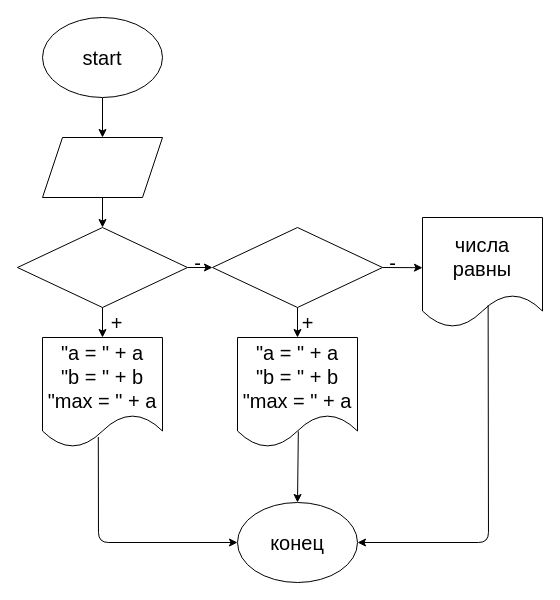
Some shapes in this 560 by 600 pixel diagram are drawn without their labels. Each missing label, with the centre of its shape:
"a , b" goes at point 102,167.
"a > b" goes at point 102,267.
"b > a" goes at point 297,267.
